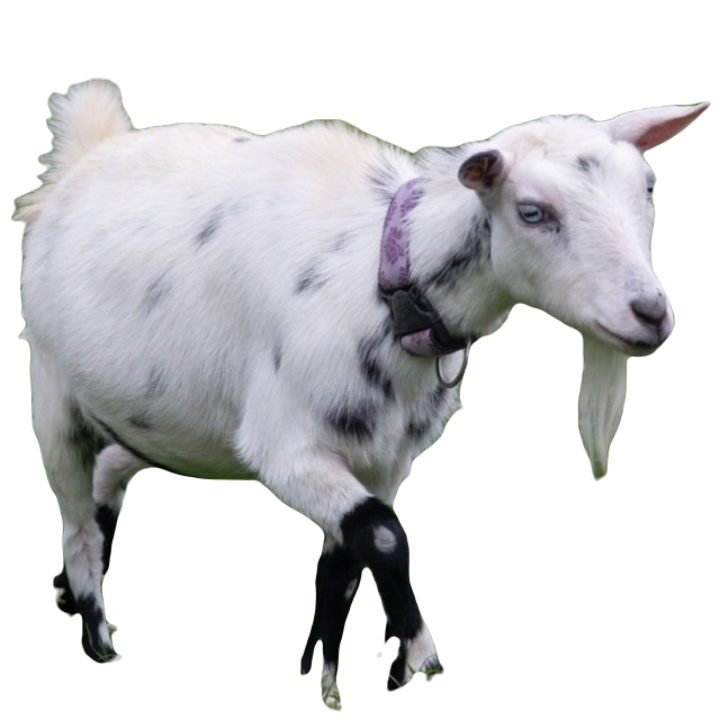Goat: (13, 75, 709, 685)
